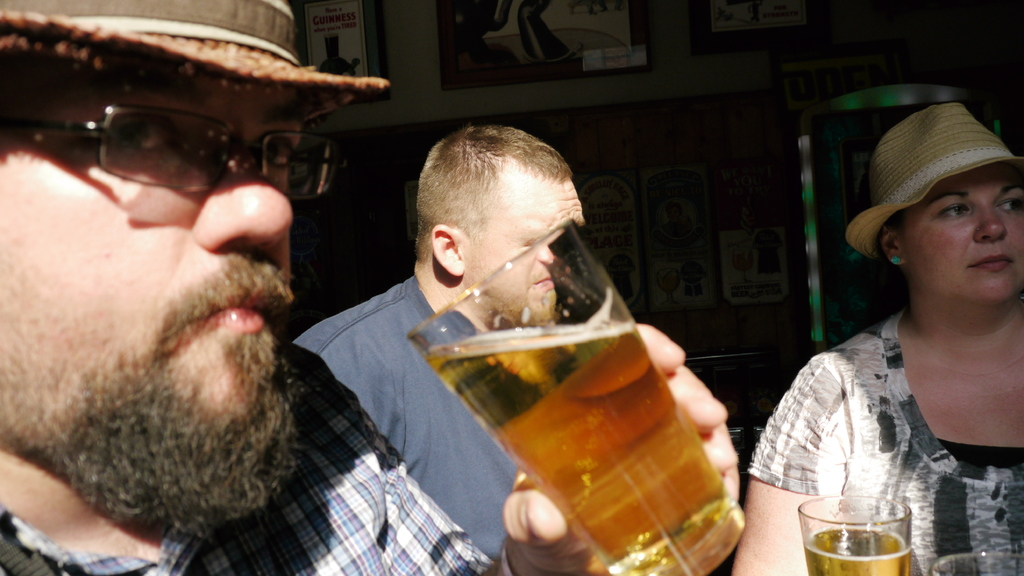Beer: (391, 210, 747, 575), (776, 485, 919, 575)
